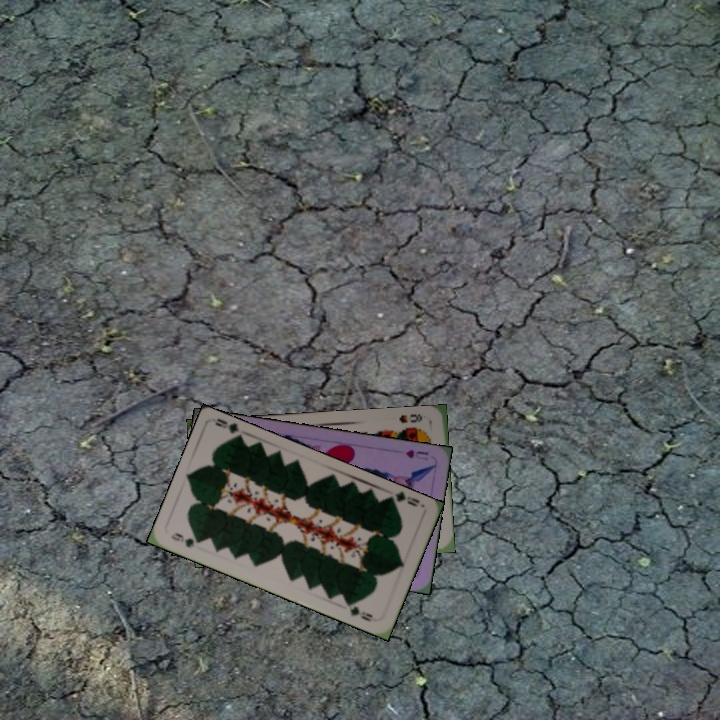G9: (167, 529, 206, 550), (384, 488, 422, 509)
HU: (401, 446, 431, 463)
S8: (395, 410, 425, 426)
